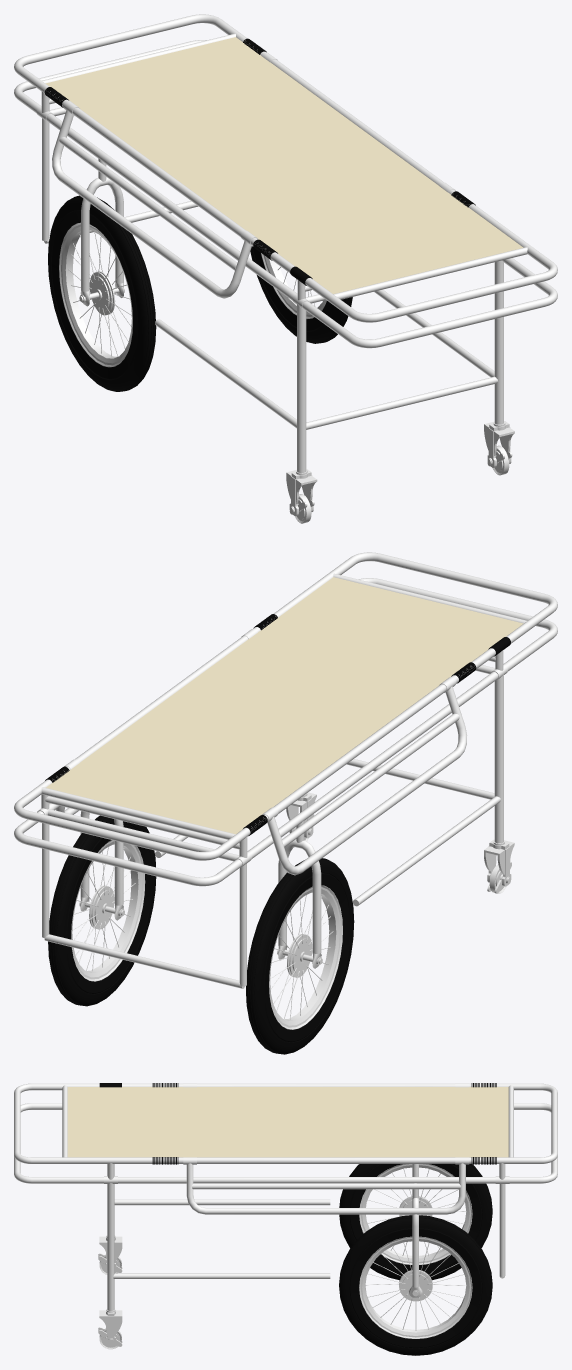
File: uploads_files_3772631_53ab05b37322b (1).FBX
3 renders of one model, top to bottom at view 1: azimuth 30°, elevation 25°; view 2: azimuth 150°, elevation 25°; view 3: azimuth 270°, elevation 25°, orthographic. The views are drawn at different scales.
Visible parts, largest first — view 1: Rectangle04, Rectangle03, Circle01, Rectangle07, Rectangle05, Circle02, Circle08, Circle48, Circle12, Rectangle09, Circle21, Circle97 (+5 smaller); view 2: Rectangle04, Rectangle03, Circle01, Rectangle07, Circle48, Rectangle05, Circle02, Circle08, Circle47, Circle12, Rectangle09, Circle21 (+8 smaller); view 3: Rectangle04, Circle48, Rectangle03, Rectangle07, Circle01, Rectangle06, Circle47, Circle14, Circle02, Circle23, Circle39, Circle45 (+4 smaller).
Part boxes in pixels (x1,y1,x2,y2): Rectangle04: (45, 37, 523, 293); Rectangle03: (14, 14, 557, 322); Circle01: (48, 195, 156, 391); Rectangle07: (14, 40, 557, 348); Rectangle05: (52, 110, 251, 298); Circle02: (59, 222, 132, 367); Circle08: (42, 33, 527, 299); Circle48: (250, 246, 352, 343); Circle12: (59, 137, 237, 270); Rectangle09: (80, 177, 124, 306); Circle21: (297, 304, 306, 472); Circle97: (306, 376, 497, 429); Rectangle04: (46, 577, 523, 834); Rectangle03: (14, 552, 557, 860); Circle01: (246, 858, 354, 1054); Rectangle07: (14, 578, 557, 886); Circle48: (48, 815, 156, 1006); Rectangle05: (267, 686, 466, 875); Circle02: (269, 885, 342, 1029); Circle08: (41, 573, 527, 839); Circle47: (71, 840, 145, 981); Circle12: (282, 713, 459, 847); Rectangle09: (278, 839, 321, 968); Circle21: (494, 674, 503, 843); Rectangle04: (67, 1087, 508, 1157); Circle48: (339, 1215, 492, 1355); Rectangle03: (14, 1083, 557, 1163); Rectangle07: (14, 1103, 557, 1183); Circle01: (339, 1164, 492, 1280); Rectangle06: (186, 1163, 465, 1214); Circle47: (359, 1236, 472, 1338); Circle14: (192, 1183, 460, 1189); Circle02: (359, 1164, 472, 1264); Circle23: (114, 1199, 330, 1205); Circle39: (113, 1273, 330, 1278); Circle45: (107, 1183, 114, 1310).
Size of the model in its own units: 768 by 782 by 1950.
